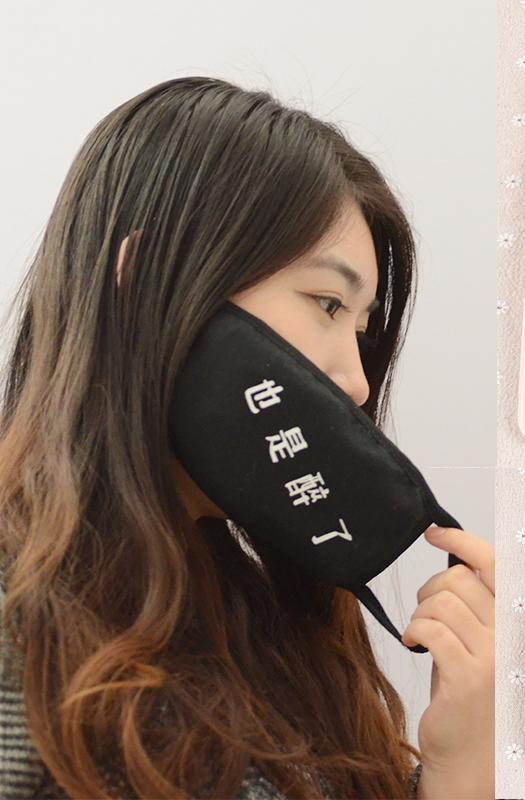WRONG: (206, 247, 387, 488)
